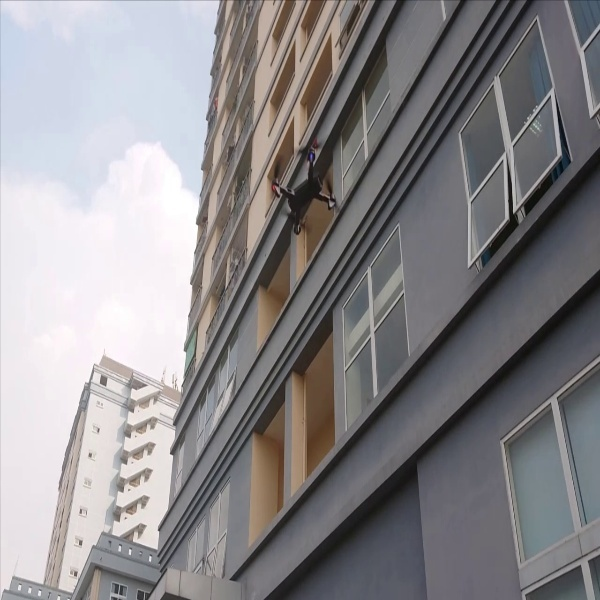drone: (263, 140, 348, 237)
